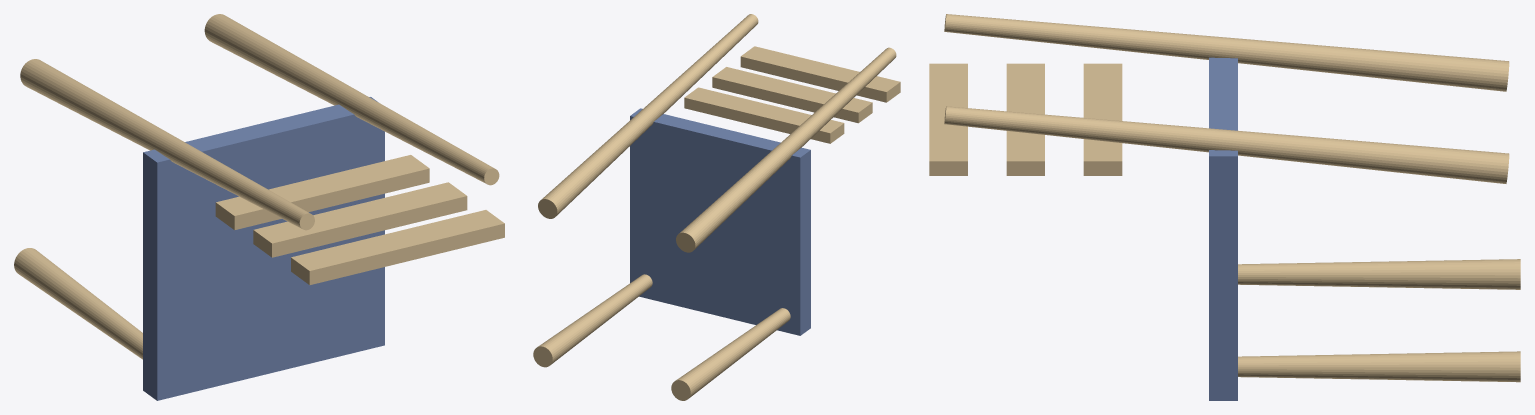
The model's file is chair.glb.
The picture shows the model from 3 angles, left to right: view 1: azimuth 30°, elevation 25°; view 2: azimuth 150°, elevation 25°; view 3: azimuth 270°, elevation 25°; orthographic projection. The views are drawn at different scales.
Visible parts, largest first — view 1: seat_0, post2_3, post3_4, slat2_7, slat1_6, slat0_5, leg0_1; view 2: seat_0, post3_4, post2_3, slat2_7, slat1_6, slat0_5, leg1_2, leg0_1; view 3: post3_4, post2_3, seat_0, leg1_2, leg0_1, slat2_7, slat0_5, slat1_6.
Boxes of the visible parts, x1,y1,x2,y2 form: seat_0: (143,97,384,400); post2_3: (20,59,314,230); post3_4: (204,14,499,185); slat2_7: (291,210,504,284); slat1_6: (253,182,467,257); slat0_5: (215,155,429,230); leg0_1: (14,248,142,359); seat_0: (630,108,810,335); post3_4: (538,14,758,218); post2_3: (676,47,896,252); slat2_7: (740,46,900,102); slat1_6: (712,67,872,123); slat0_5: (684,87,844,143); leg1_2: (533,274,652,367); leg0_1: (671,308,790,400); post3_4: (944,106,1509,183); post2_3: (944,14,1509,91); seat_0: (1209,57,1237,400); leg1_2: (1238,351,1520,382); leg0_1: (1238,259,1520,289); slat2_7: (929,63,967,175); slat0_5: (1083,63,1122,175); slat1_6: (1006,63,1044,175).
Bounding box in the file's own units: 0.42 × 0.4859 × 0.92.
